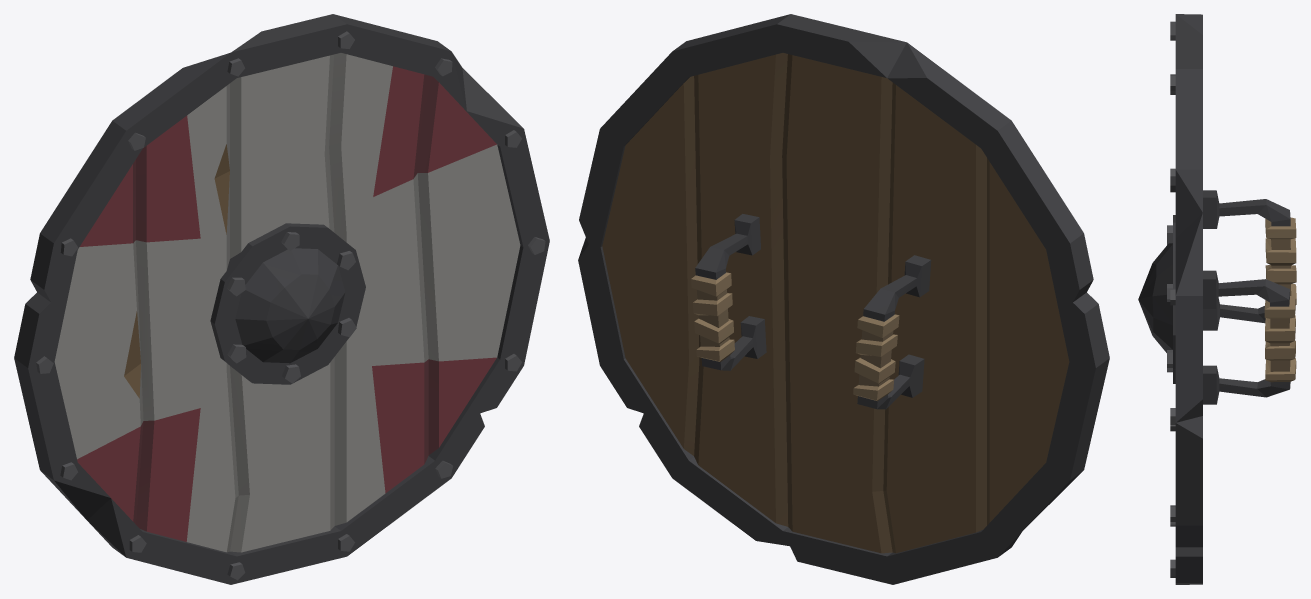
File: Escudo_01.glb
The picture shows the model from 3 angles, left to right: view 1: azimuth 30°, elevation 25°; view 2: azimuth 150°, elevation 25°; view 3: azimuth 270°, elevation 25°; orthographic projection. The views are drawn at different scales.
Parts seen in each view (by area): view 1: SM_Wep_Shield_07; view 2: SM_Wep_Shield_07; view 3: SM_Wep_Shield_07.
Part boxes in pixels (bbox=[...]): SM_Wep_Shield_07: bbox=[14, 14, 549, 584]; SM_Wep_Shield_07: bbox=[578, 14, 1109, 584]; SM_Wep_Shield_07: bbox=[1138, 14, 1296, 584].
Size of the model in its own units: 0.7578 by 0.7388 by 0.2058.
Materials: 1 (1 with a texture image).
